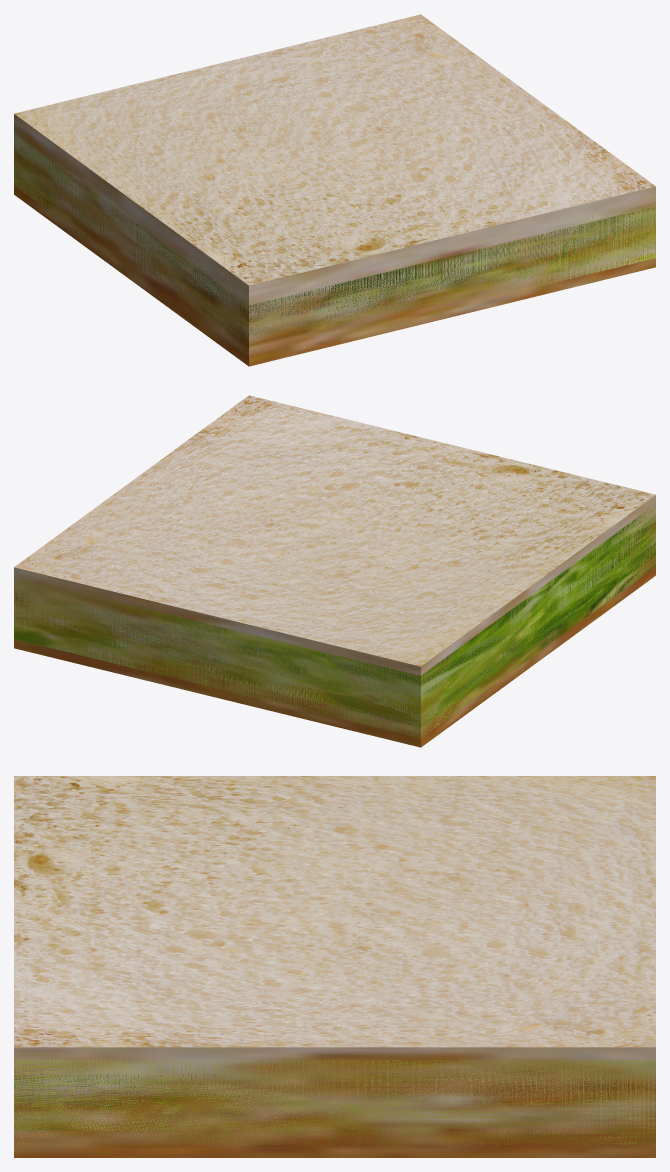
Rendered from food.fbx.
The picture shows the model from 3 angles, top to bottom: view 1: azimuth 30°, elevation 25°; view 2: azimuth 150°, elevation 25°; view 3: azimuth 270°, elevation 25°; orthographic projection. The views are drawn at different scales.
Parts seen in each view (by area): view 1: Bread, Lettuce, Cheese; view 2: Bread, Cheese, Lettuce; view 3: Bread, Cheese, Lettuce.
Part boxes in pixels (x1,y1,x2,y2): Bread: (14, 14, 655, 366); Lettuce: (14, 135, 655, 345); Cheese: (14, 123, 655, 345); Bread: (14, 395, 655, 747); Cheese: (14, 505, 655, 737); Lettuce: (25, 517, 655, 727); Bread: (14, 776, 655, 1157); Cheese: (14, 1060, 655, 1145); Lettuce: (14, 1074, 637, 1130).
Bounding box in the file's own units: 200 × 38.02 × 200.
Materials: 4 (4 with a texture image).
